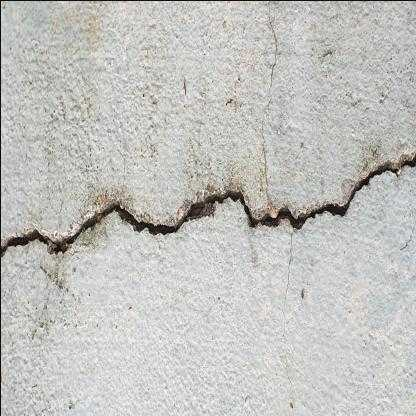crack: (0, 148, 416, 258)
